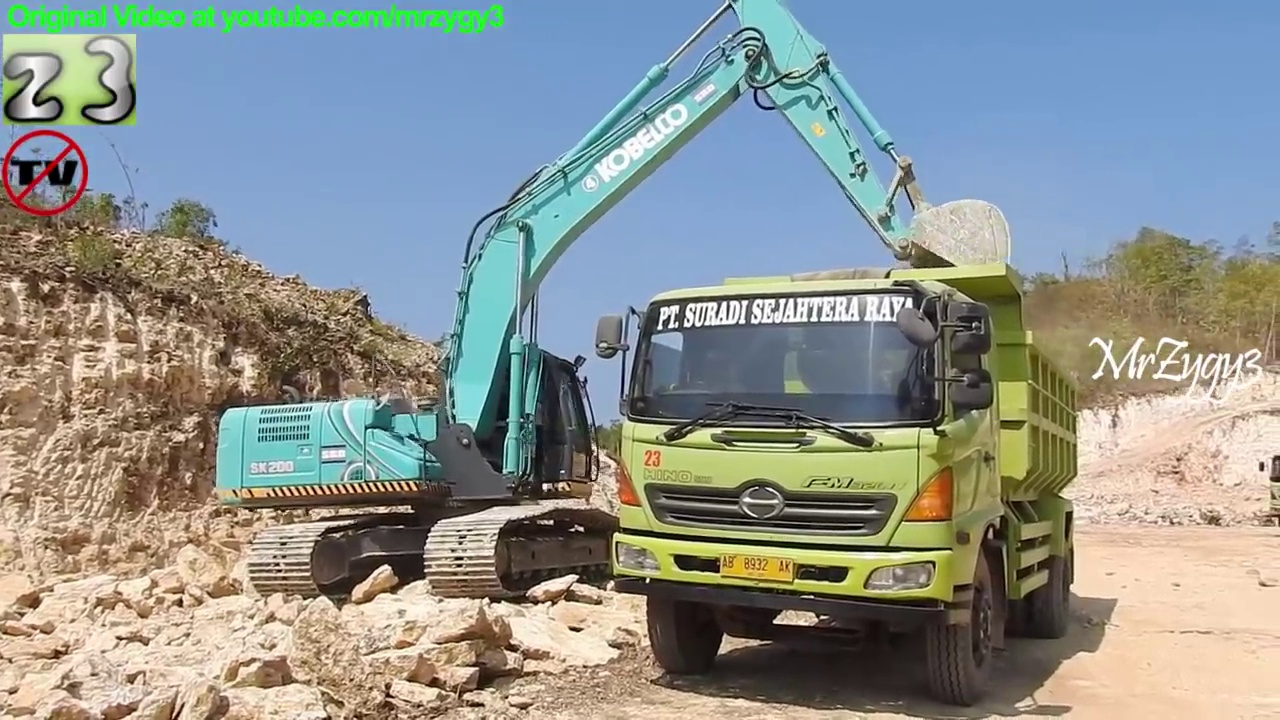excavator: (205, 1, 1022, 613)
truck: (591, 255, 1086, 707)
